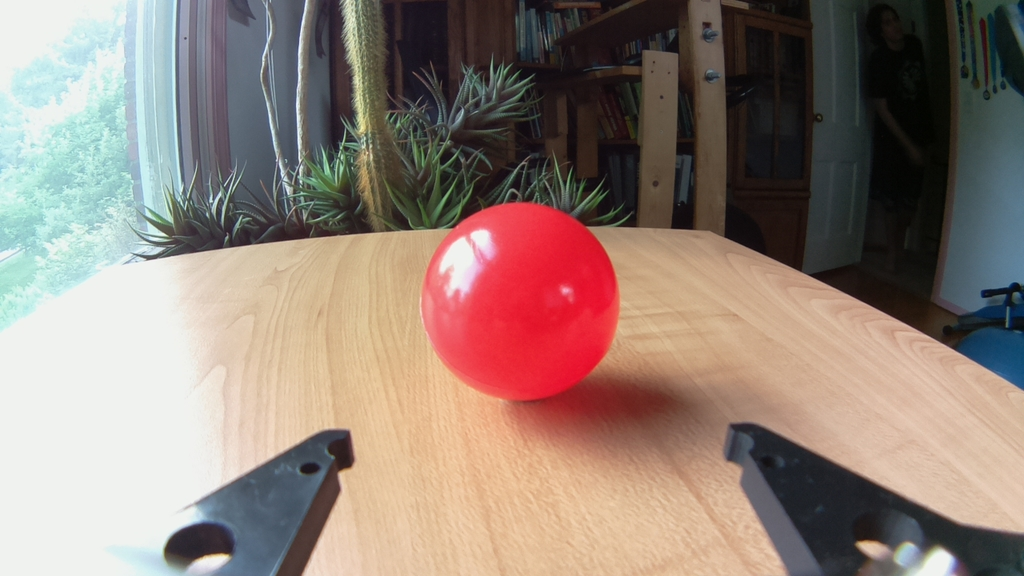ball: (420, 199, 623, 407)
